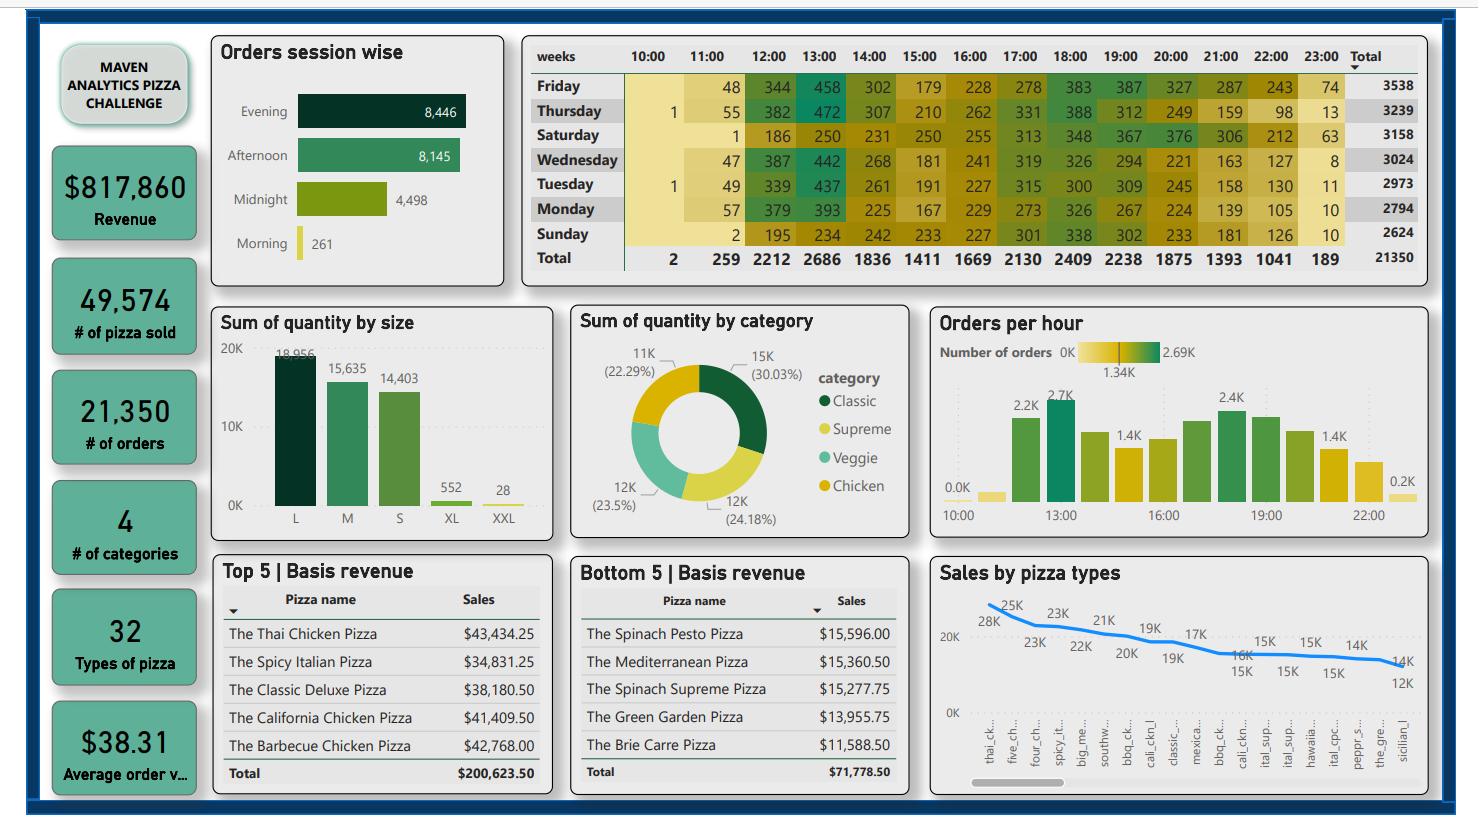

This screenshot's page, from the dashboard's own definition file:
{"tool":"powerbi","page":{"name":"Page 1","canvas":[1280,720],"ordinal":0},"visuals":[{"type":"card","fields":{"Values":["Sum(order_details.Sales)"]},"box":[23.3,121.7,130,85],"z":0},{"type":"tableEx","title":"Top 5 | Basis revenue","fields":{"Values":["pizza_types.name","Sum(Number of orders.Sales)"]},"box":[166.7,486.7,305,215],"z":1000},{"type":"columnChart","title":"Orders per hour","fields":{"Y":["order_details.Number of orders"],"Category":["orders.Custom_time"]},"box":[808.6,265.7,447.1,207.1],"z":2000},{"type":"pivotTable","fields":{"Rows":["orders.Name of week"],"Columns":["orders.Custom_time"],"Values":["CountNonNull(orders.order_id)"]},"box":[443.3,23.3,811.7,225],"z":3000},{"type":"shape","box":[0,0,1280,12],"z":4000},{"type":"shape","box":[0,706.7,1280,13.3],"z":5000},{"type":"shape","box":[1268.3,8.3,11.7,701],"z":6000},{"type":"shape","box":[0,6.7,11.7,700],"z":7000},{"type":"columnChart","fields":{"Category":["pizzas.size"],"Y":["Sum(Number of orders.quantity)"]},"box":[165,265,306.7,210],"z":8000},{"type":"card","fields":{"Values":["Sum(order_details.quantity)"]},"box":[23.3,221.7,130,86.7],"z":9000},{"type":"donutChart","fields":{"Y":["Sum(Number of orders.quantity)"],"Category":["pizza_types.category"]},"box":[487.1,264.3,304.3,208.6],"z":10000},{"type":"card","fields":{"Values":["order_details.Number of orders"]},"box":[23.3,321.7,130,85],"z":11000},{"type":"card","fields":{"Values":["Count(pizza_types.pizza_type_id)"]},"box":[23.3,518.3,130,86.7],"z":12000},{"type":"card","fields":{"Values":["Count(pizza_types.category)"]},"box":[23.3,420,130,85],"z":13000},{"type":"card","fields":{"Values":["Number of orders.Average order value"]},"box":[23.3,618.3,130,85],"z":14000},{"type":"barChart","title":"Orders session wise","fields":{"Category":["orders.Timeofday"],"Y":["Number of orders.Number of orders"]},"box":[165,23.3,263.3,225],"z":15000},{"type":"tableEx","title":"Bottom 5 | Basis revenue","fields":{"Values":["pizza_types.name","Sum(Number of orders.Sales)"]},"box":[487.1,488.6,304.3,214.3],"z":16000},{"type":"lineChart","title":"Sales by pizza types","fields":{"Category":["Number of orders.pizza_id"],"Y":["Sum(Number of orders.Price)"]},"box":[808.6,488.6,447.1,214.3],"z":17000},{"type":"shape","box":[23.3,23.3,130,88.3],"z":18000}]}

Visuals, with their boxes in screenshot pixels (x1, y1, x2, y2), scaled from the page's 1280x720 canvas onto the 1478x829 screenshot:
card - Sum(order_details.Sales): locate(27, 140, 177, 238)
"Top 5 | Basis revenue" tableEx: locate(192, 560, 545, 808)
"Orders per hour" columnChart: locate(934, 306, 1450, 544)
pivotTable - orders.Name of week x orders.Custom_time: locate(512, 27, 1449, 286)
shape: locate(0, 0, 1477, 14)
shape: locate(0, 814, 1477, 828)
shape: locate(1464, 10, 1477, 817)
shape: locate(0, 8, 14, 814)
columnChart - pizzas.size x Sum(Number of orders.quantity): locate(191, 305, 545, 547)
card - Sum(order_details.quantity): locate(27, 255, 177, 355)
donutChart - Sum(Number of orders.quantity) x pizza_types.category: locate(562, 304, 914, 544)
card - order_details.Number of orders: locate(27, 370, 177, 468)
card - Count(pizza_types.pizza_type_id): locate(27, 597, 177, 697)
card - Count(pizza_types.category): locate(27, 484, 177, 581)
card - Number of orders.Average order value: locate(27, 712, 177, 810)
"Orders session wise" barChart: locate(191, 27, 495, 286)
"Bottom 5 | Basis revenue" tableEx: locate(562, 563, 914, 809)
"Sales by pizza types" lineChart: locate(934, 563, 1450, 809)
shape: locate(27, 27, 177, 128)
